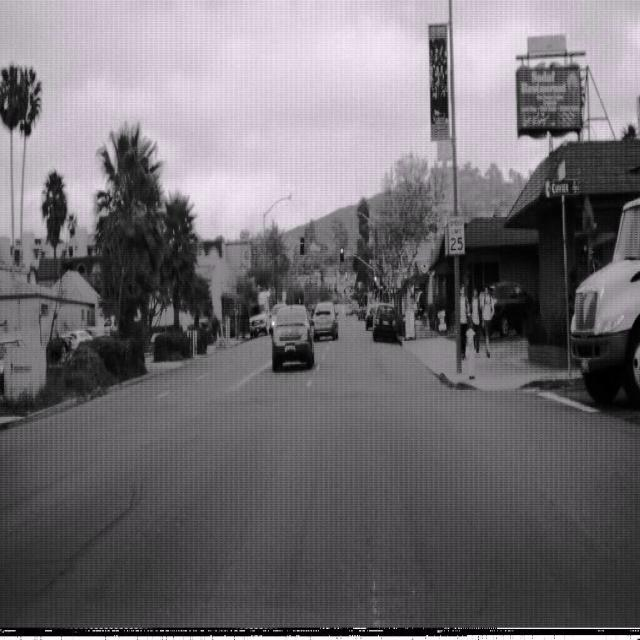speedLimit25: (447, 213, 465, 255)
